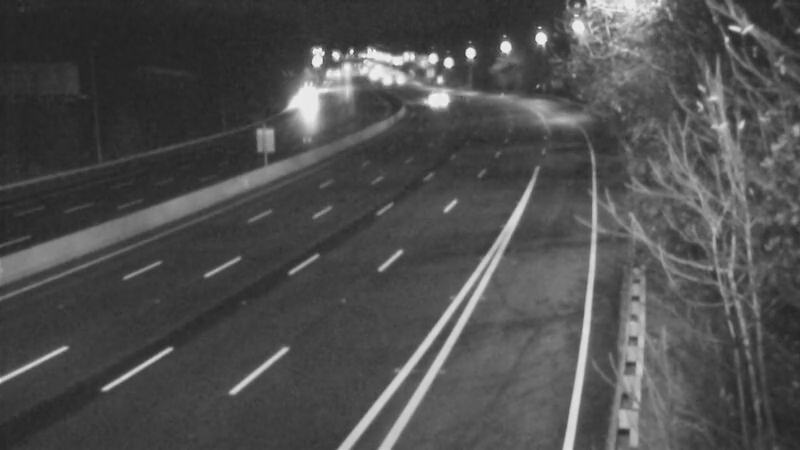vehicle: (409, 71, 459, 121)
